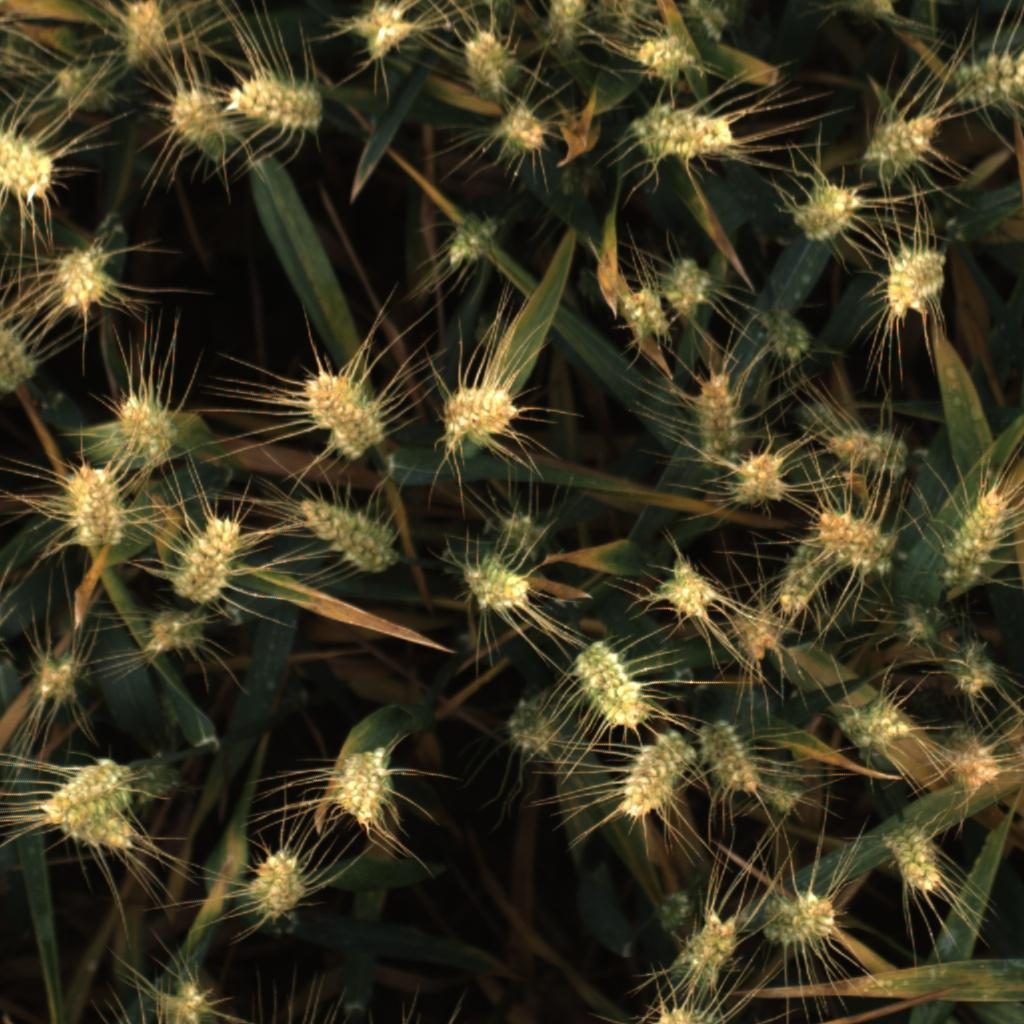0-0: (286, 486, 404, 581), (606, 726, 698, 825), (302, 358, 388, 458), (934, 482, 1017, 583), (569, 641, 654, 731), (30, 749, 128, 824), (624, 103, 739, 166), (59, 460, 136, 551), (761, 880, 848, 960), (875, 244, 957, 326), (173, 514, 249, 602), (808, 499, 896, 575), (862, 103, 947, 180), (824, 416, 916, 487), (332, 741, 402, 833), (240, 839, 315, 923), (216, 76, 324, 134), (112, 382, 179, 472), (438, 383, 524, 452), (689, 362, 743, 471), (782, 173, 869, 240), (832, 687, 914, 758), (755, 543, 833, 617), (673, 899, 741, 982), (697, 710, 757, 803), (454, 28, 521, 109), (935, 725, 1005, 802), (880, 819, 950, 895), (159, 82, 226, 160), (49, 800, 137, 859), (723, 442, 793, 515), (946, 43, 1024, 108), (0, 122, 62, 203), (720, 595, 784, 673), (647, 554, 721, 621), (50, 241, 114, 318), (41, 53, 119, 116), (490, 496, 558, 567), (450, 563, 538, 617), (115, 0, 180, 70), (135, 600, 210, 660), (654, 248, 718, 317), (434, 207, 505, 269), (19, 651, 87, 715), (753, 304, 825, 363), (755, 738, 807, 819), (497, 698, 563, 758), (942, 636, 1002, 702), (351, 3, 418, 62), (561, 130, 615, 203), (613, 286, 675, 349), (494, 101, 556, 160), (628, 30, 699, 81), (888, 591, 947, 652), (791, 397, 854, 453), (0, 303, 37, 390), (154, 979, 214, 1024), (592, 0, 652, 40), (537, 0, 594, 42), (683, 0, 732, 46), (639, 999, 723, 1024)
